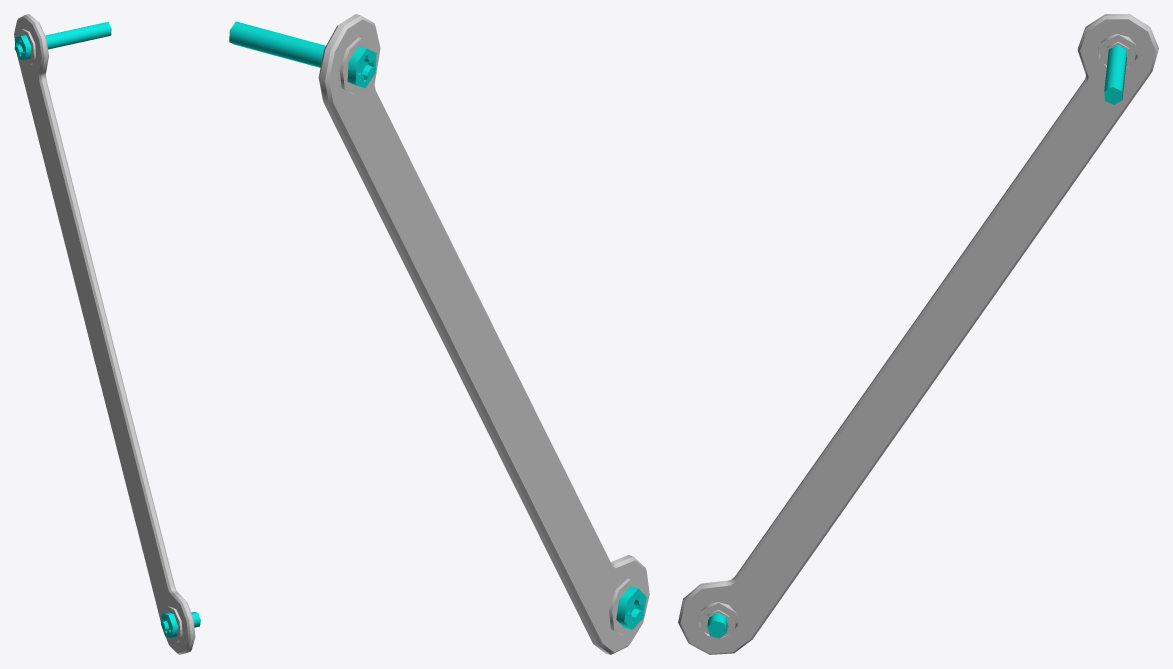
The model's file is postarm_aux1.dae.
3 views of the same model, side by side, from view 1: azimuth 30°, elevation 25°; view 2: azimuth 150°, elevation 25°; view 3: azimuth 270°, elevation 25° (orthographic). The views are drawn at different scales.
Visible parts, largest first — view 1: __001; view 2: __001; view 3: __001.
Part boxes in pixels (<box>): __001: <box>14,14,200,654</box>; __001: <box>229,14,649,654</box>; __001: <box>678,14,1158,654</box>.
Size of the model in its own units: 28.31 by 94.78 by 141.
